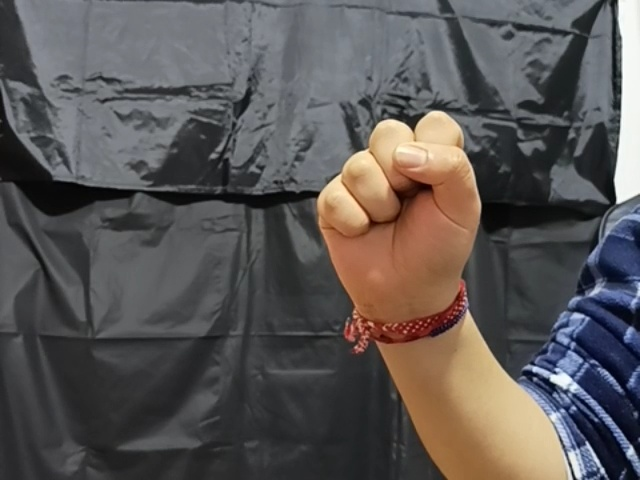S: (308, 107, 479, 313)
